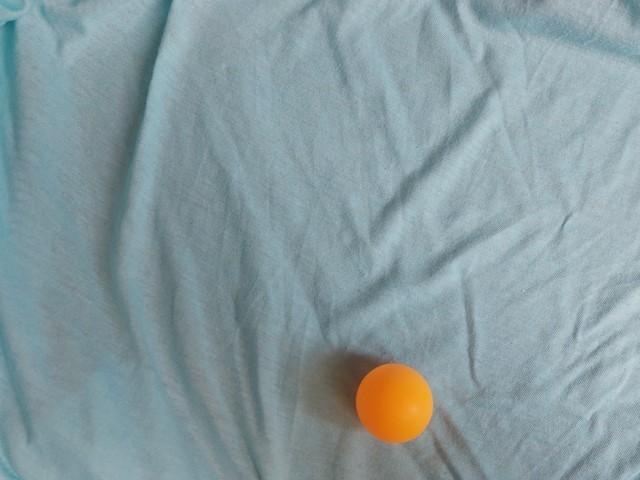oball: (193, 29, 293, 126)
